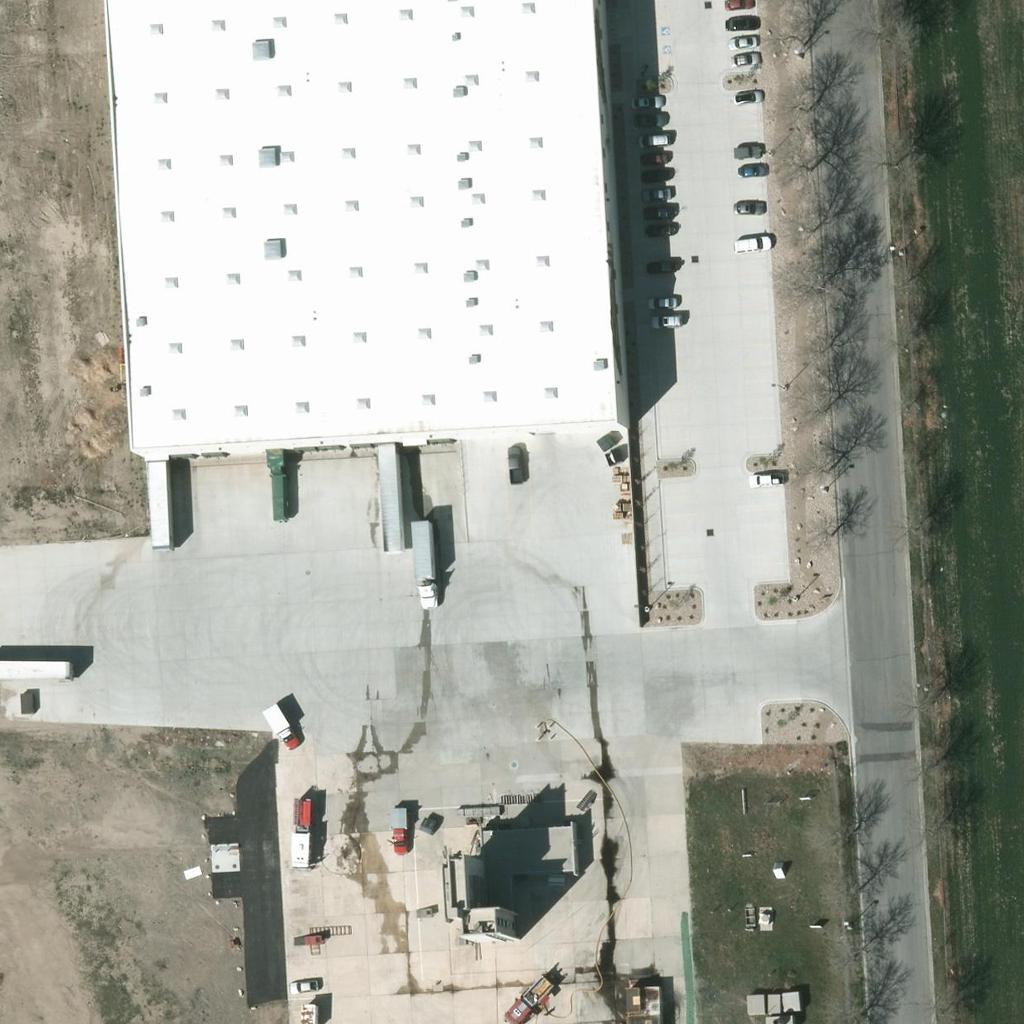car: (724, 4, 758, 38), (724, 23, 758, 57), (724, 40, 758, 74), (731, 79, 765, 113), (625, 84, 659, 118), (625, 101, 659, 135), (635, 122, 669, 156), (727, 133, 761, 167), (637, 140, 671, 174), (732, 152, 766, 186), (638, 157, 672, 191), (638, 175, 672, 209), (729, 187, 763, 221), (640, 195, 674, 229), (643, 211, 677, 245), (734, 226, 768, 260), (642, 248, 676, 282), (643, 284, 677, 318), (648, 303, 682, 337), (494, 443, 528, 477), (746, 462, 780, 496), (286, 969, 320, 1003), (719, 0, 753, 18)
